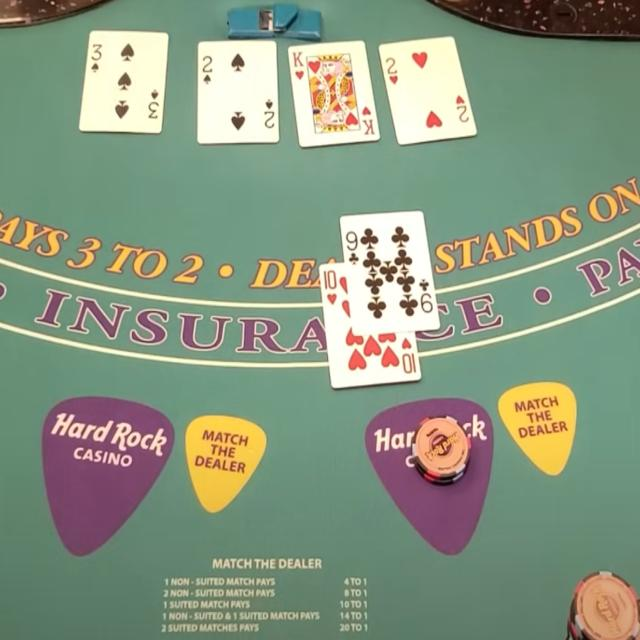10: (322, 268, 339, 291)
2: (200, 52, 218, 75), (384, 55, 400, 76)
3: (90, 40, 104, 61)
9: (343, 229, 359, 252)
K: (290, 48, 306, 68)
